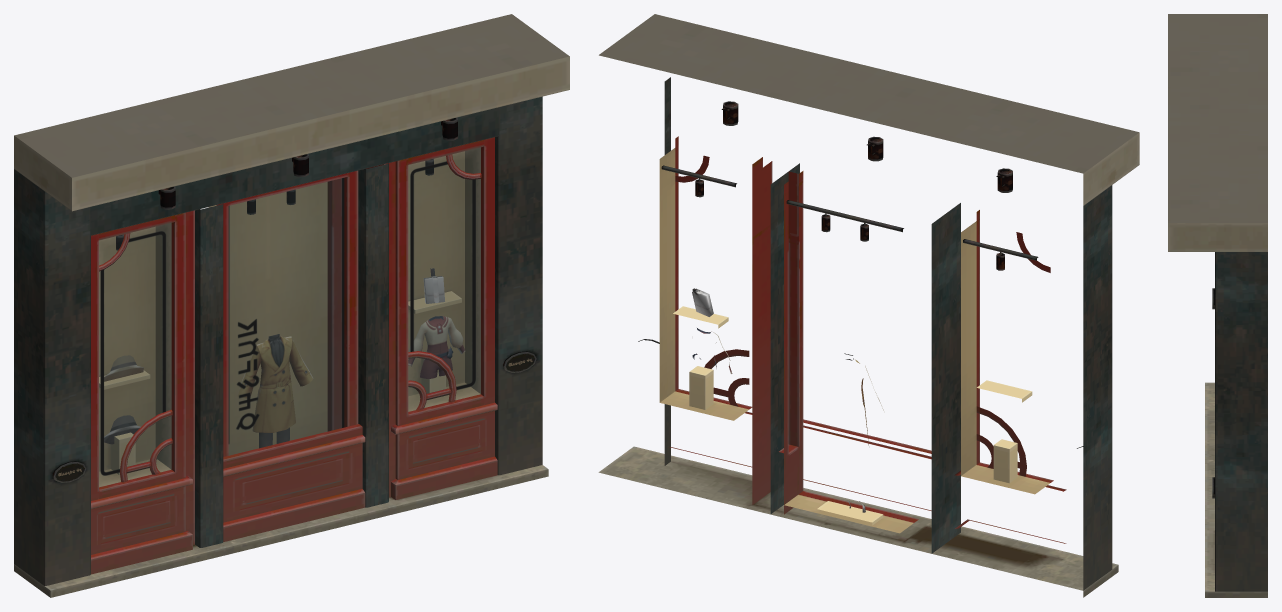
The model's file is t1_b_boutique2_b_wall.glb.
3 views of the same model, side by side, from view 1: azimuth 30°, elevation 25°; view 2: azimuth 150°, elevation 25°; view 3: azimuth 270°, elevation 25° (orthographic). The views are drawn at different scales.
Visible parts, largest first — view 1: nomerge_t1_b_boutique2_b_wall_mesh; view 2: nomerge_t1_b_boutique2_b_wall_mesh; view 3: nomerge_t1_b_boutique2_b_wall_mesh.
Boxes of the visible parts, x1,y1,x2,y2 form: nomerge_t1_b_boutique2_b_wall_mesh: (14,14,569,597); nomerge_t1_b_boutique2_b_wall_mesh: (598,14,1139,597); nomerge_t1_b_boutique2_b_wall_mesh: (1168,14,1267,597).
Bounding box in the file's own units: 5.5 × 4.6 × 1.11.
3 materials, 3 textured.
